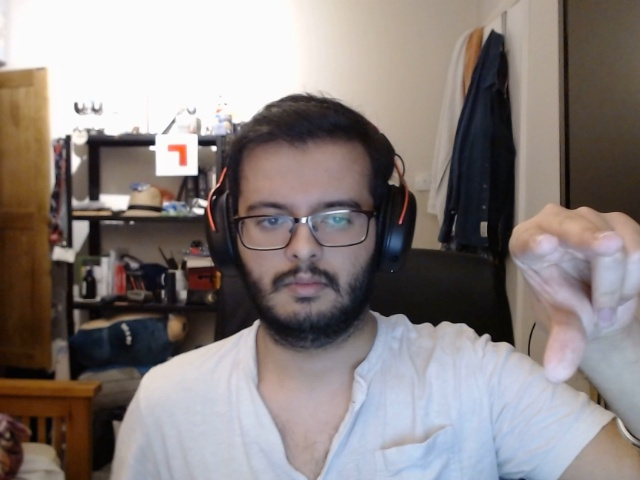No: (493, 190, 640, 383)
